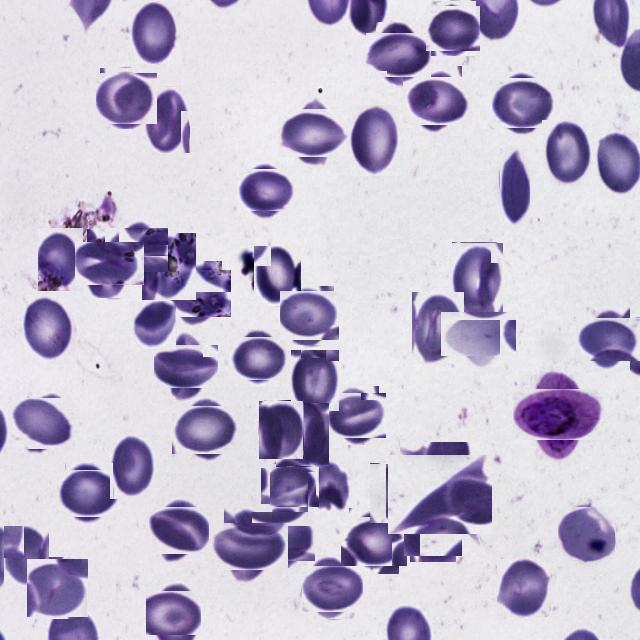difficult: (522, 379, 594, 450)
red blood cell: (394, 448, 486, 540), (217, 514, 280, 578), (23, 294, 78, 364), (412, 292, 464, 364), (452, 242, 504, 312), (142, 233, 196, 300), (282, 103, 342, 163), (350, 104, 400, 176), (28, 558, 88, 618), (448, 304, 508, 364), (177, 401, 237, 460), (408, 72, 468, 130), (276, 403, 329, 468), (14, 395, 72, 453), (558, 507, 616, 565), (345, 512, 403, 570), (494, 76, 552, 132), (497, 558, 552, 617), (542, 120, 591, 185), (152, 502, 208, 558), (255, 508, 311, 564), (170, 266, 226, 322), (98, 70, 154, 126), (81, 236, 137, 292), (131, 2, 181, 64), (144, 86, 190, 153), (291, 349, 340, 411), (371, 27, 426, 82), (61, 466, 116, 520), (110, 432, 154, 499), (38, 227, 84, 291), (4, 525, 50, 589), (254, 245, 302, 306), (581, 312, 635, 366), (159, 339, 213, 393), (304, 562, 358, 616), (110, 224, 164, 278), (282, 288, 336, 342), (370, 463, 417, 523), (330, 389, 382, 442), (407, 507, 459, 559), (259, 400, 304, 459), (232, 332, 284, 383), (264, 460, 316, 510), (241, 165, 291, 215), (428, 4, 478, 54), (148, 588, 198, 638), (500, 146, 531, 226), (306, 462, 351, 512), (130, 301, 176, 349)
